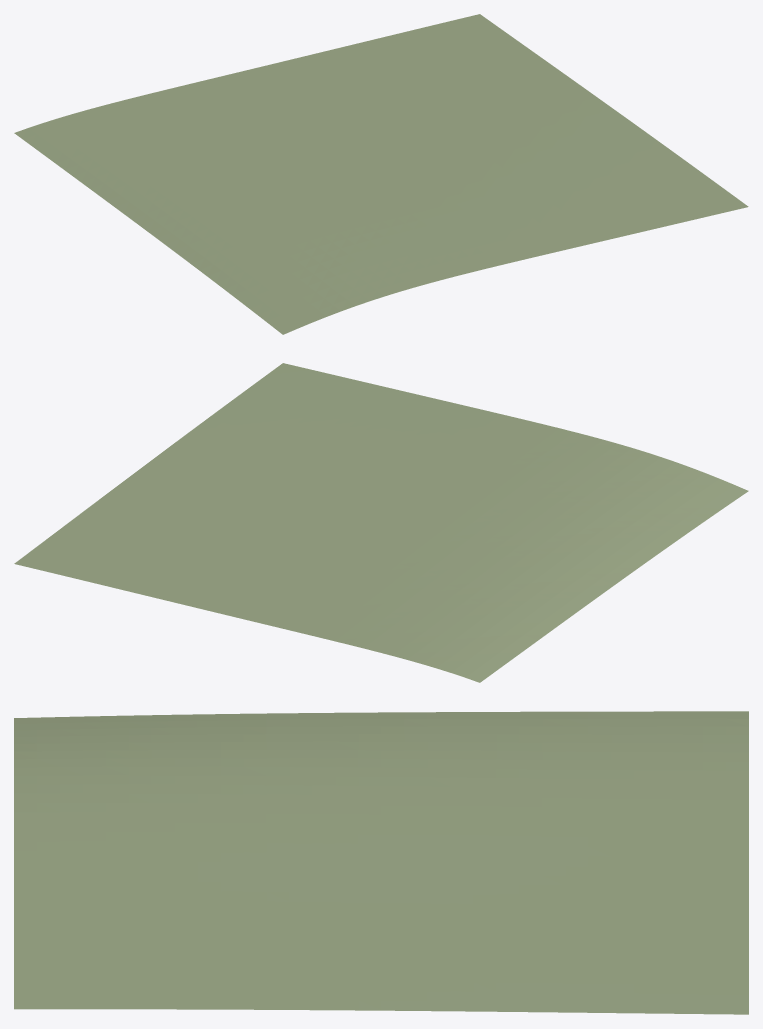
The model's file is desert-13-21.glb.
The picture shows the model from 3 angles, top to bottom: view 1: azimuth 30°, elevation 25°; view 2: azimuth 150°, elevation 25°; view 3: azimuth 270°, elevation 25°; orthographic projection. The views are drawn at different scales.
Visible parts, largest first — view 1: desert-13-21; view 2: desert-13-21; view 3: desert-13-21.
Boxes of the visible parts, left/top/right/bottom form: desert-13-21: left=14, top=14, right=748, bottom=334; desert-13-21: left=14, top=363, right=748, bottom=682; desert-13-21: left=14, top=711, right=748, bottom=1014.
Bounding box in the file's own units: 512 × 17.44 × 512.
